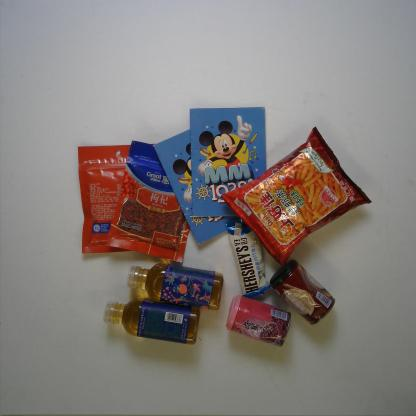Canned Food: (268, 258, 336, 326), (224, 294, 292, 348)
Chocolate: (224, 219, 271, 298)
Dried Fruit: (106, 140, 190, 263), (76, 145, 133, 254)
Drink: (126, 262, 224, 310), (102, 299, 200, 346)
Puffed Food: (220, 126, 374, 267)
Stationery: (189, 105, 269, 218), (152, 130, 228, 246)
